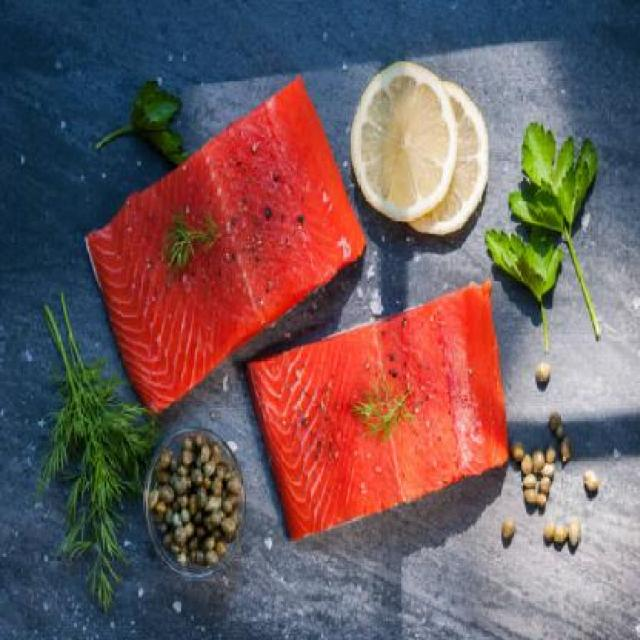salmon: (81, 76, 388, 410), (232, 268, 534, 538)
